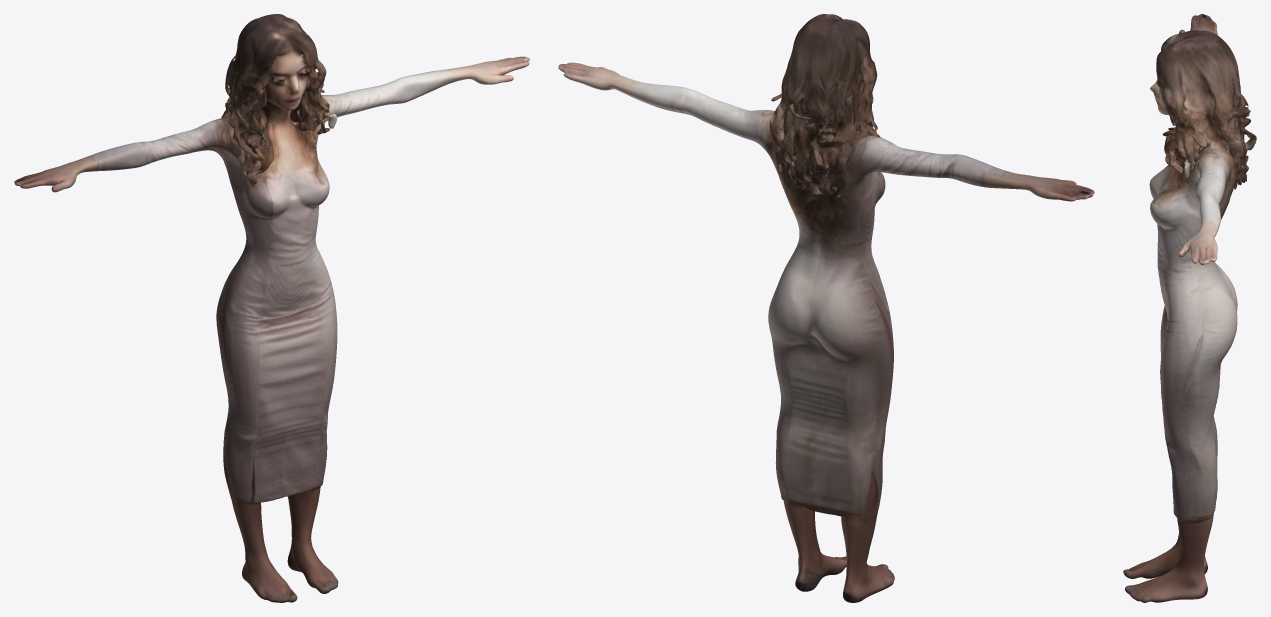
Rendered from v_women.glb.
3 renders of one model, left to right at view 1: azimuth 30°, elevation 25°; view 2: azimuth 150°, elevation 25°; view 3: azimuth 270°, elevation 25°, orthographic. The views are drawn at different scales.
Parts seen in each view (by area): view 1: Object_3, Object_4, Object_5; view 2: Object_4, Object_3, Object_5; view 3: Object_3, Object_4, Object_5.
Boxes of the visible parts, left/top/right/bottom form: Object_3: left=14, top=14, right=529, bottom=582; Object_4: left=14, top=14, right=337, bottom=602; Object_5: left=229, top=57, right=529, bottom=602; Object_4: left=563, top=18, right=1094, bottom=602; Object_3: left=558, top=14, right=1093, bottom=585; Object_5: left=558, top=59, right=893, bottom=595; Object_3: left=1142, top=14, right=1241, bottom=602; Object_4: left=1129, top=17, right=1256, bottom=602; Object_5: left=1123, top=74, right=1242, bottom=602.
Bounding box in the file's own units: 1.93 × 2 × 0.4377.
Materials: 1 (1 with a texture image).
